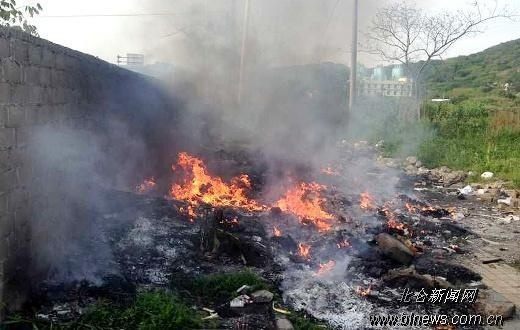fire: (162, 148, 271, 219), (270, 176, 337, 226), (357, 192, 422, 228), (299, 247, 338, 274), (134, 175, 156, 194), (313, 258, 336, 276), (296, 242, 313, 259), (354, 282, 373, 297), (359, 191, 374, 209), (335, 237, 352, 249), (270, 225, 283, 236)
